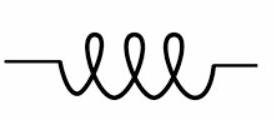inductor: (40, 26, 217, 107)
